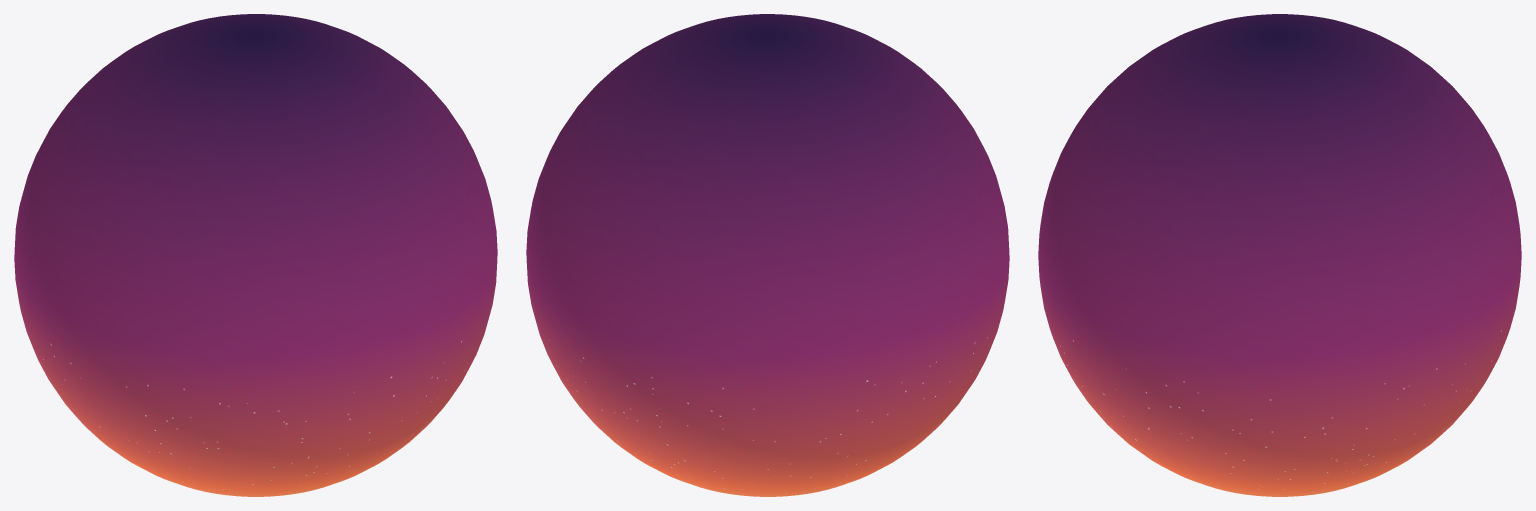
File: hyderabad.glb
The picture shows the model from 3 angles, left to right: view 1: azimuth 30°, elevation 25°; view 2: azimuth 150°, elevation 25°; view 3: azimuth 270°, elevation 25°; orthographic projection.
Visible parts, largest first — view 1: SkyDome; view 2: SkyDome; view 3: SkyDome.
Part boxes in pixels (x1,y1,x2,y2): SkyDome: (14, 14, 497, 496); SkyDome: (526, 14, 1009, 496); SkyDome: (1038, 14, 1521, 496).
Size of the model in its own units: 2400 by 2400 by 2400.
Materials: 18 (18 with a texture image).
